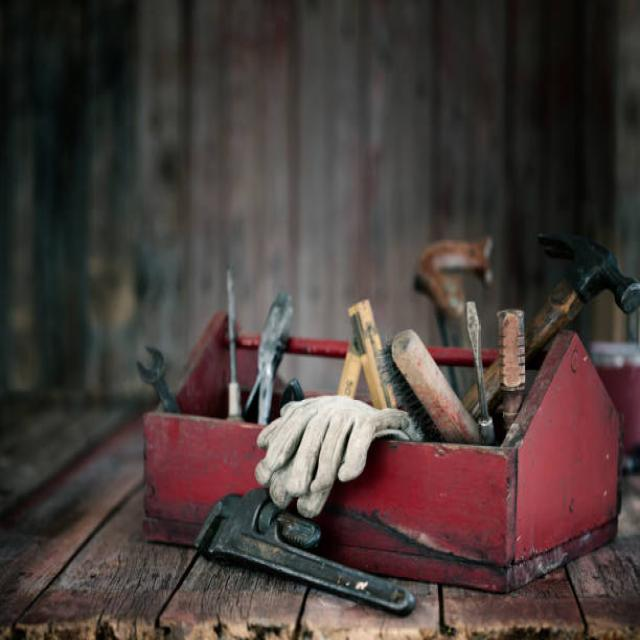Gloves: (252, 391, 426, 525)
